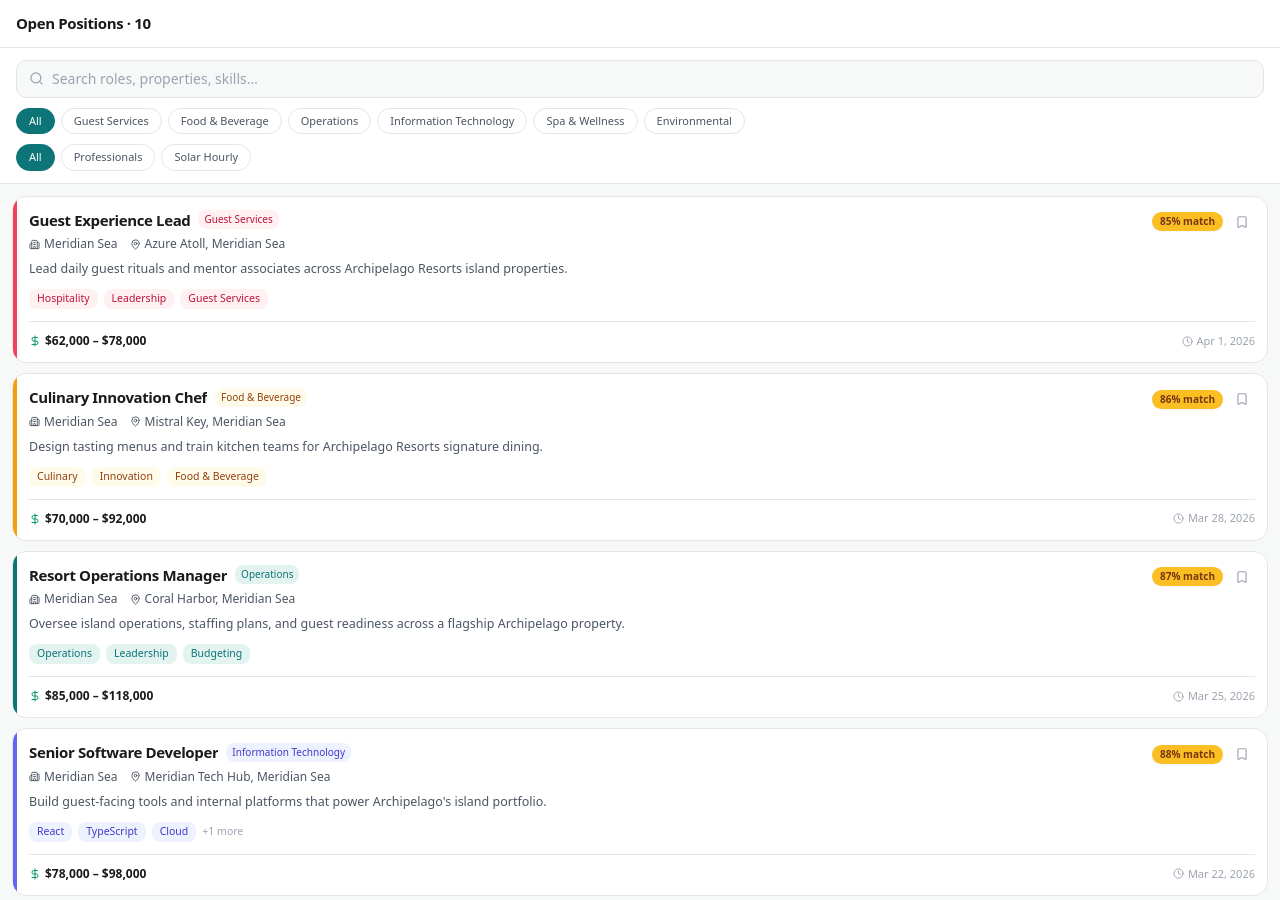
Test: OpenPositionsPanel › opens job detail when a card is clicked
The image size is (1280, 900).
Click the button with aria-label "Open Guest Experience Lead details": (640, 279) x1=12 y1=196 x2=1268 y2=363
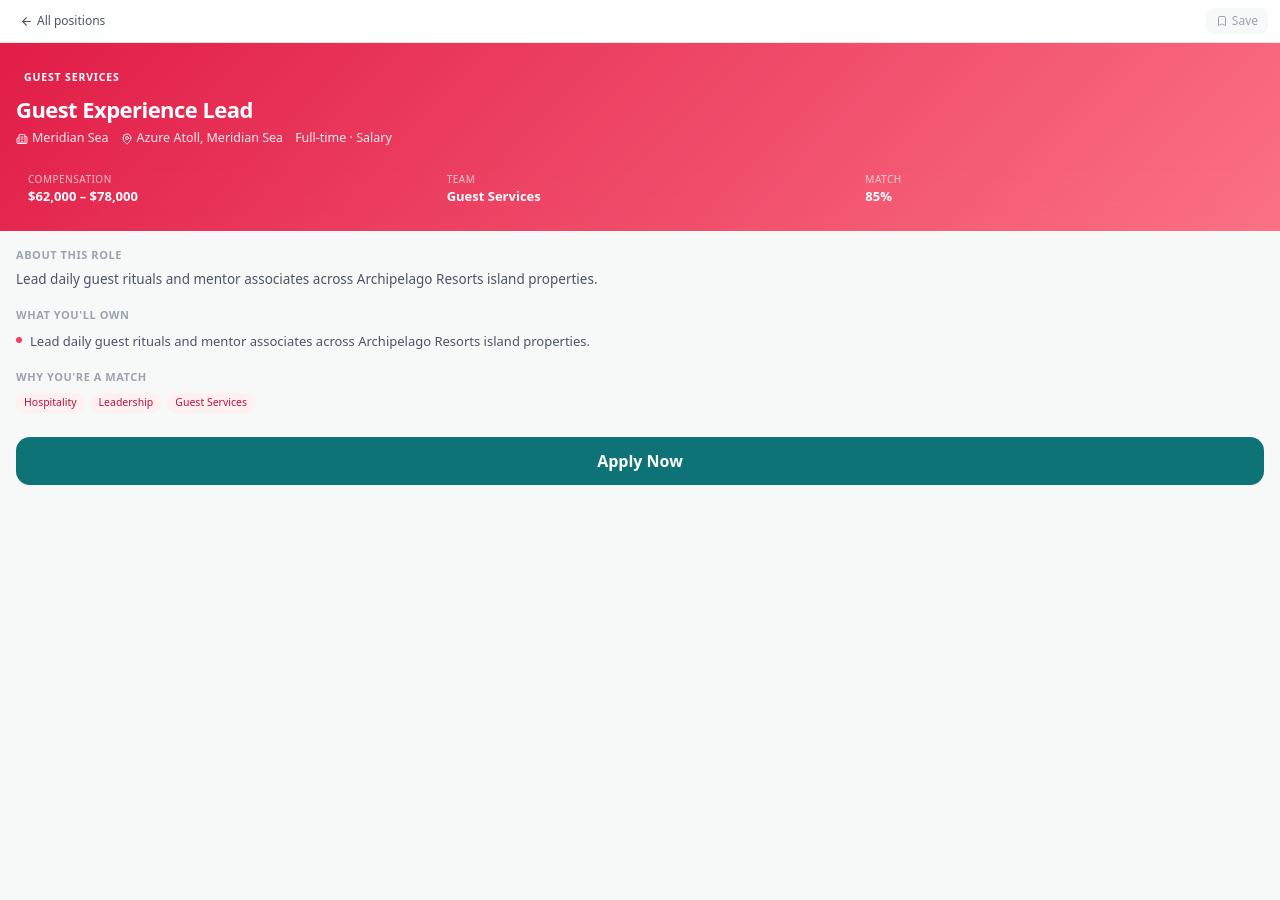
Expected: the element with test id "open-positions-job-detail-1" is shown, x1=0 y1=0 x2=1279 y2=485
Expected: the button "All positions" is shown, x1=12 y1=8 x2=113 y2=34
